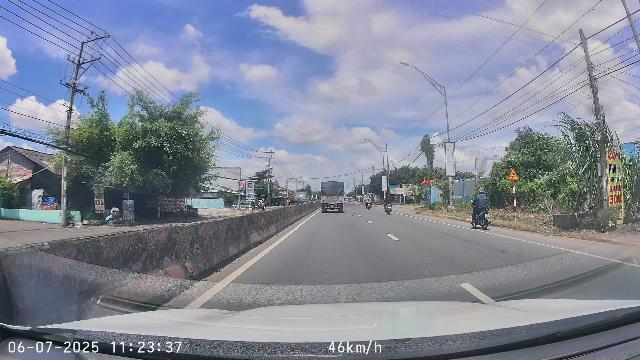224-duong-nguoi-di-bo-cat-ngang: (508, 168, 519, 180)
